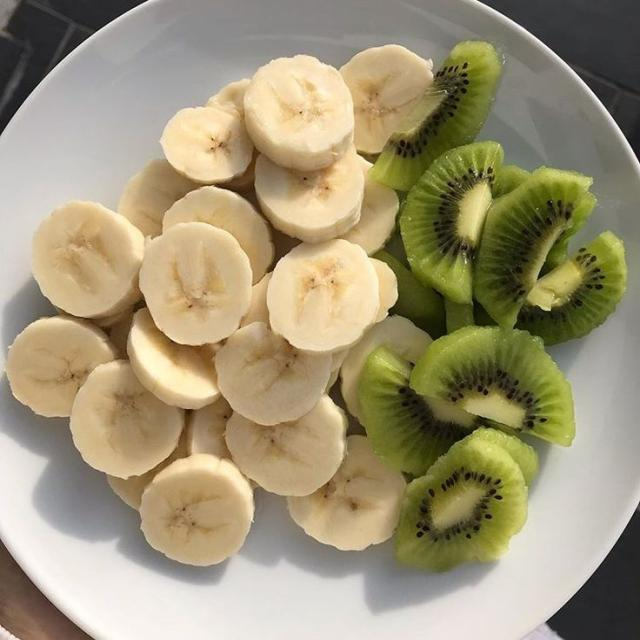banana slice: (140, 223, 252, 345), (287, 436, 406, 550), (71, 361, 184, 478), (33, 201, 144, 317), (267, 240, 379, 352), (140, 454, 253, 565), (244, 55, 353, 170), (226, 395, 346, 495), (215, 323, 331, 424), (6, 317, 116, 416), (163, 186, 273, 282), (255, 148, 364, 242), (340, 45, 433, 154), (340, 316, 432, 422), (127, 309, 219, 408), (160, 108, 253, 184), (107, 432, 188, 509), (118, 160, 197, 237), (342, 157, 399, 255), (187, 398, 233, 458), (206, 79, 250, 123), (54, 306, 133, 330), (206, 78, 250, 121), (370, 259, 398, 322), (241, 273, 271, 326), (223, 148, 258, 192), (109, 311, 133, 359), (273, 228, 301, 263), (327, 349, 348, 393), (92, 308, 133, 329), (325, 367, 339, 393), (332, 349, 349, 370)
kiwi: (410, 326, 574, 445), (374, 41, 502, 190), (473, 168, 589, 328), (397, 437, 527, 571), (400, 142, 502, 302), (357, 345, 475, 474), (517, 231, 626, 344), (373, 251, 444, 338), (460, 428, 537, 484)
